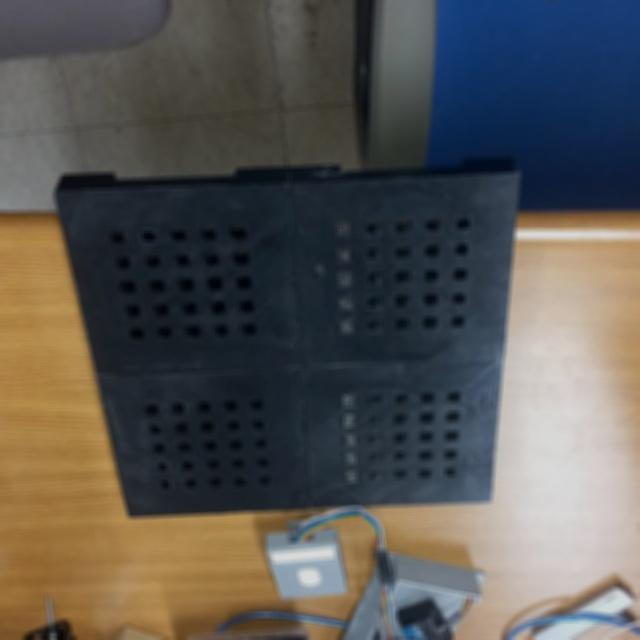pallet: (49, 151, 528, 521)
